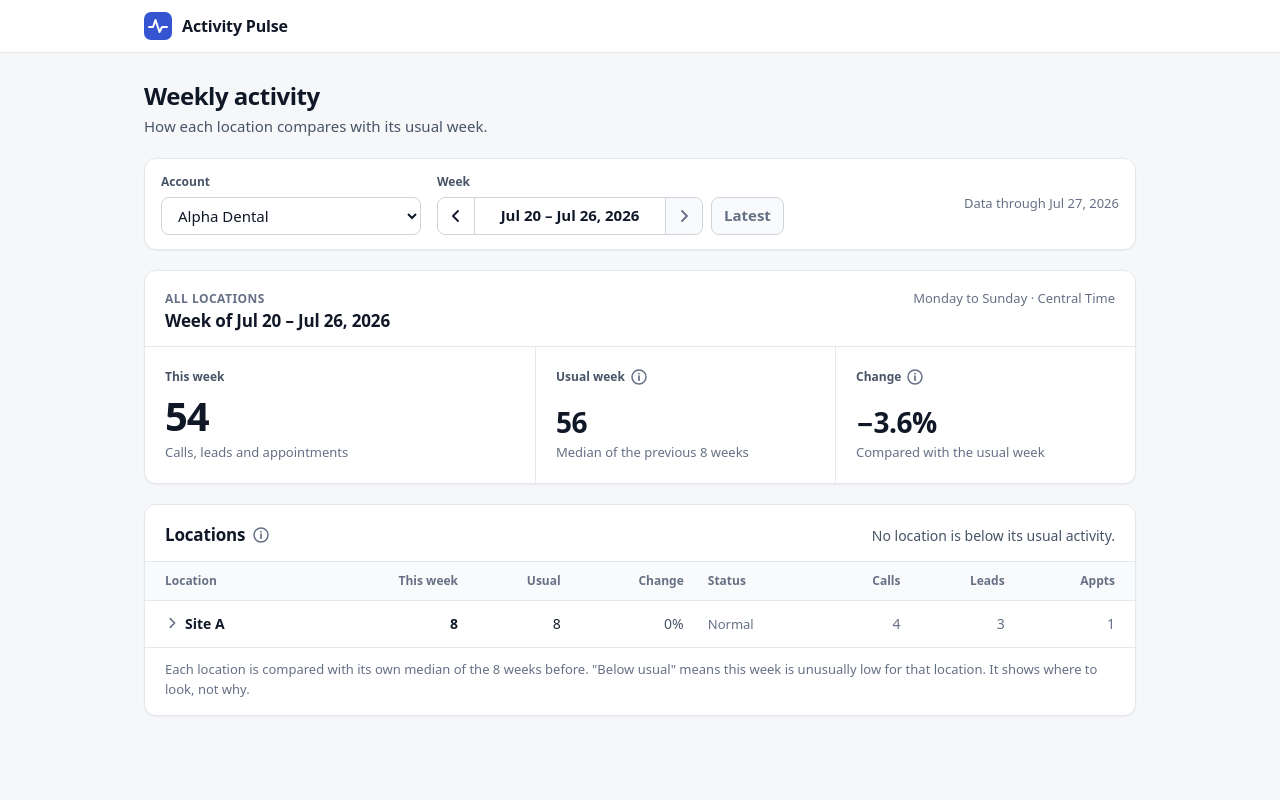
it: information popovers and details › explains the usual week and the change on click
This screenshot has width=1280, height=800.
Expected: the heading "Week of Jul 20 – Jul 26, 2026" is shown, 165,310 -> 390,332
What coordinates should you click on to do the following:
click the button named "About the usual week"
I would click on:
 (639, 377)
Its box is 627,365 -> 651,389.
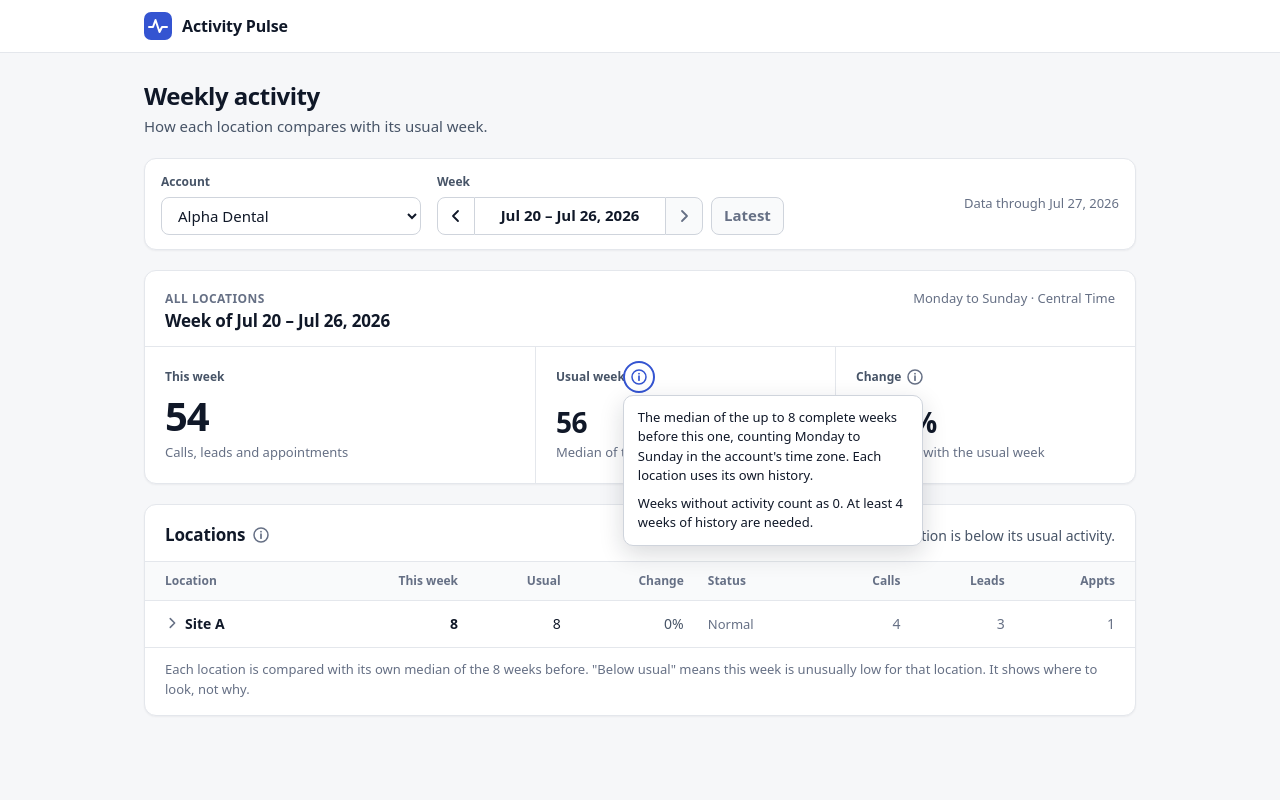
Expected: the text "median of the up to 8 complete weeks before this one" is shown, 638,408 -> 897,484
What coordinates should you click on to do the following:
click the button named "About the change"
I would click on:
 (915, 377)
Its box is 903,365 -> 927,389.
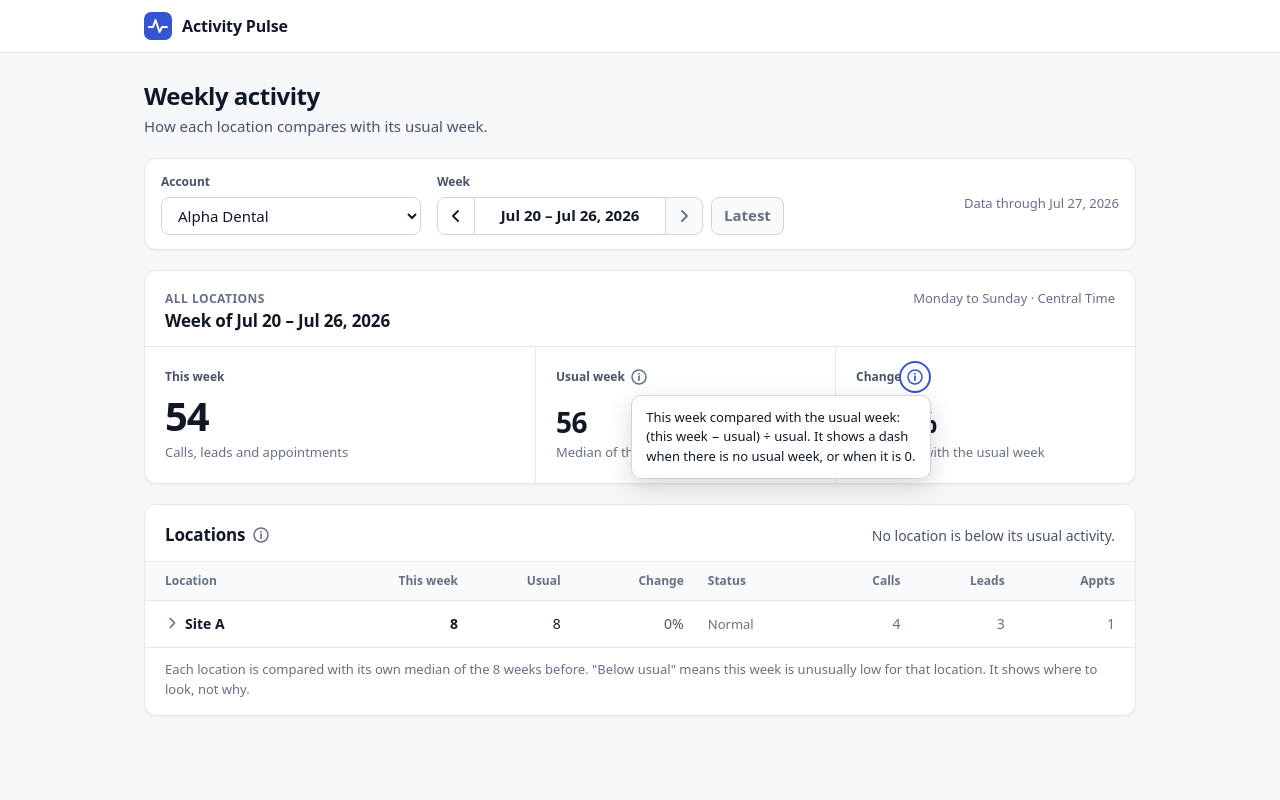
Expected: the text "median of the up to 8 complete weeks" is gone
Expected: the text "(this week − usual) ÷ usual" is shown, 646,408 -> 916,465
